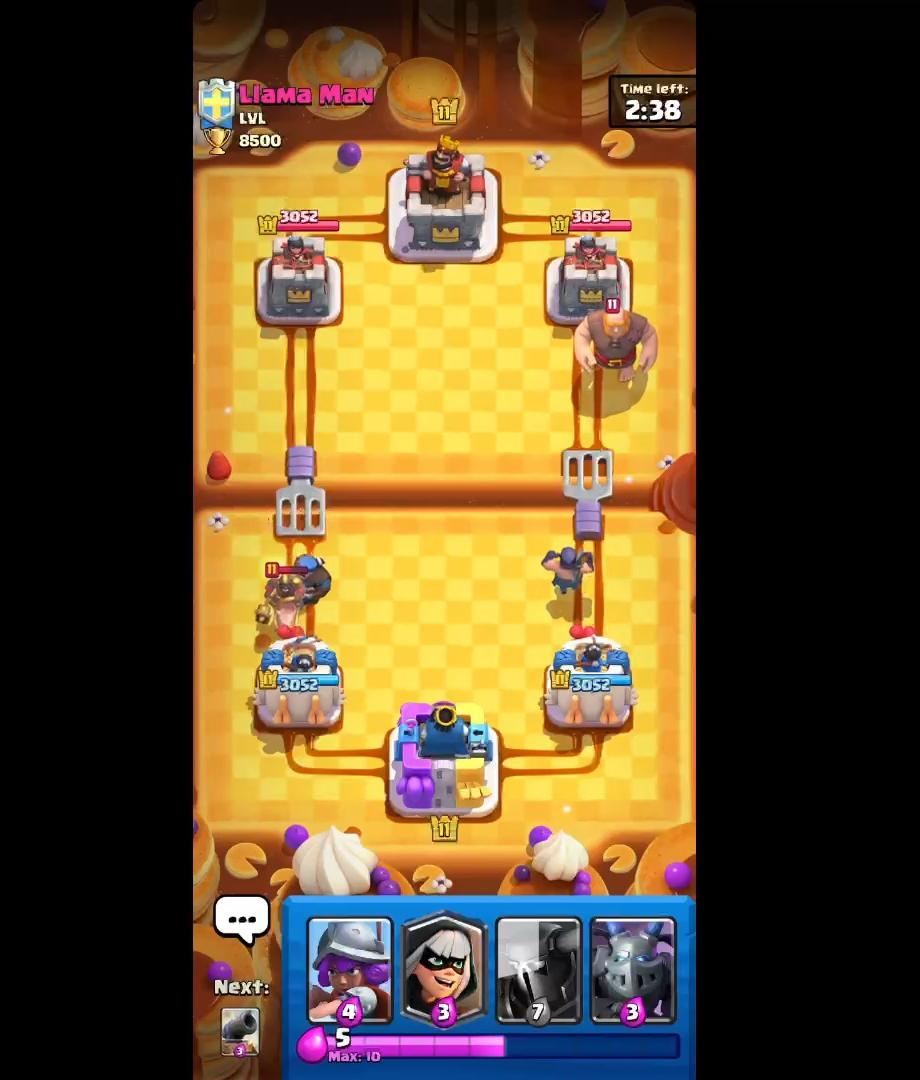Giant: (563, 297, 663, 388)
Hog Rider: (251, 557, 314, 636)
